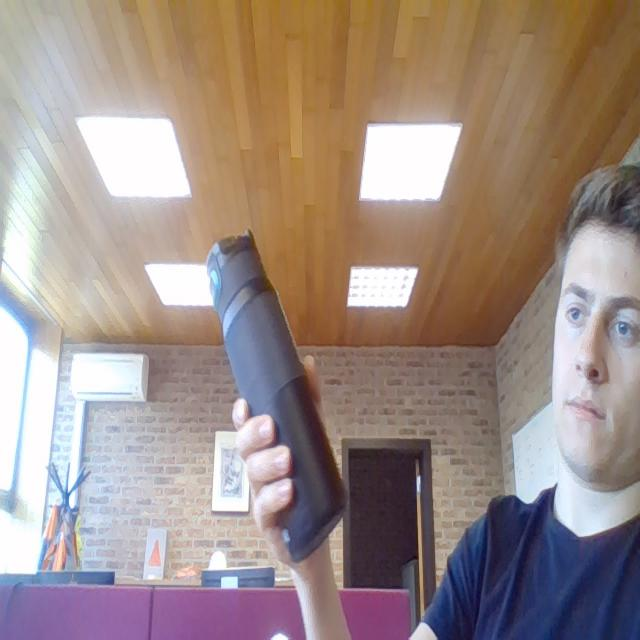bottle: (192, 194, 370, 546)
